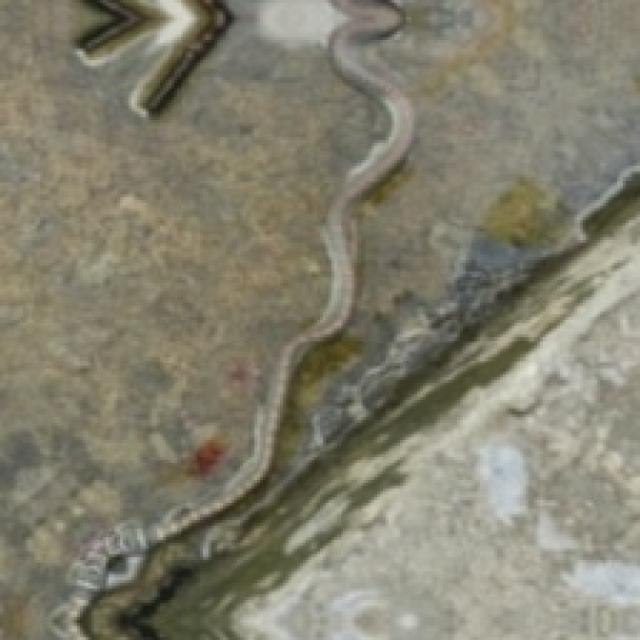paradise tree snake: (51, 0, 411, 637)
